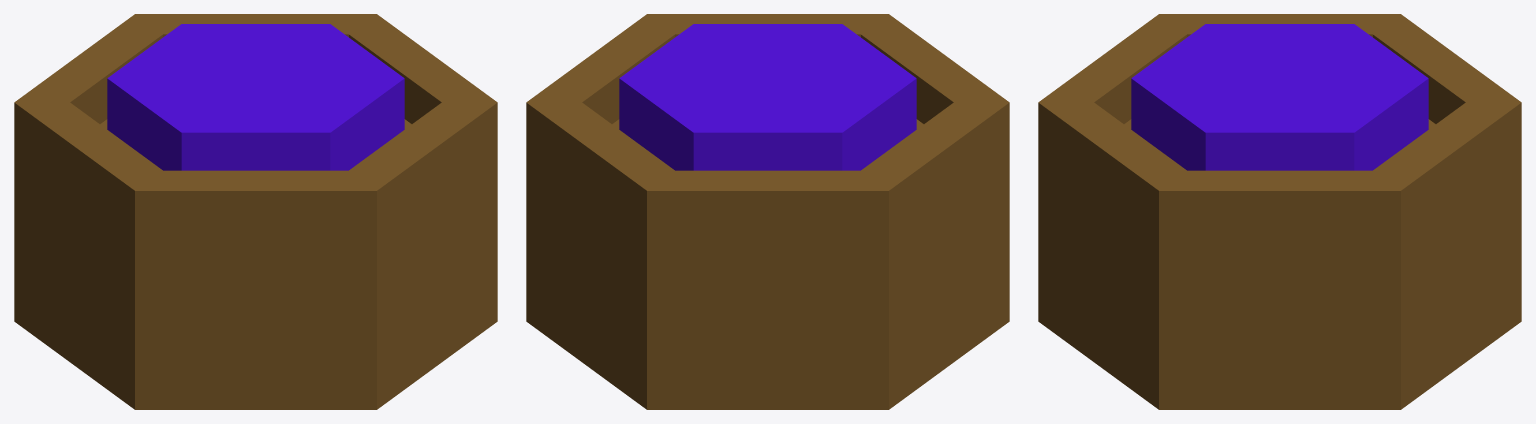
Rendered from ProtoTerrian.fbx.
3 renders of one model, left to right at view 1: azimuth 30°, elevation 25°; view 2: azimuth 150°, elevation 25°; view 3: azimuth 270°, elevation 25°, orthographic.
Visible parts, largest first — view 1: Cylinder, Cylinder.001; view 2: Cylinder, Cylinder.001; view 3: Cylinder, Cylinder.001.
Part boxes in pixels (<box>): Cylinder: <box>14,14,497,409</box>; Cylinder.001: <box>107,24,404,170</box>; Cylinder: <box>526,14,1009,409</box>; Cylinder.001: <box>619,24,916,170</box>; Cylinder: <box>1038,14,1521,409</box>; Cylinder.001: <box>1131,24,1428,170</box>.
Bounding box in the file's own units: 173 × 111 × 200.
